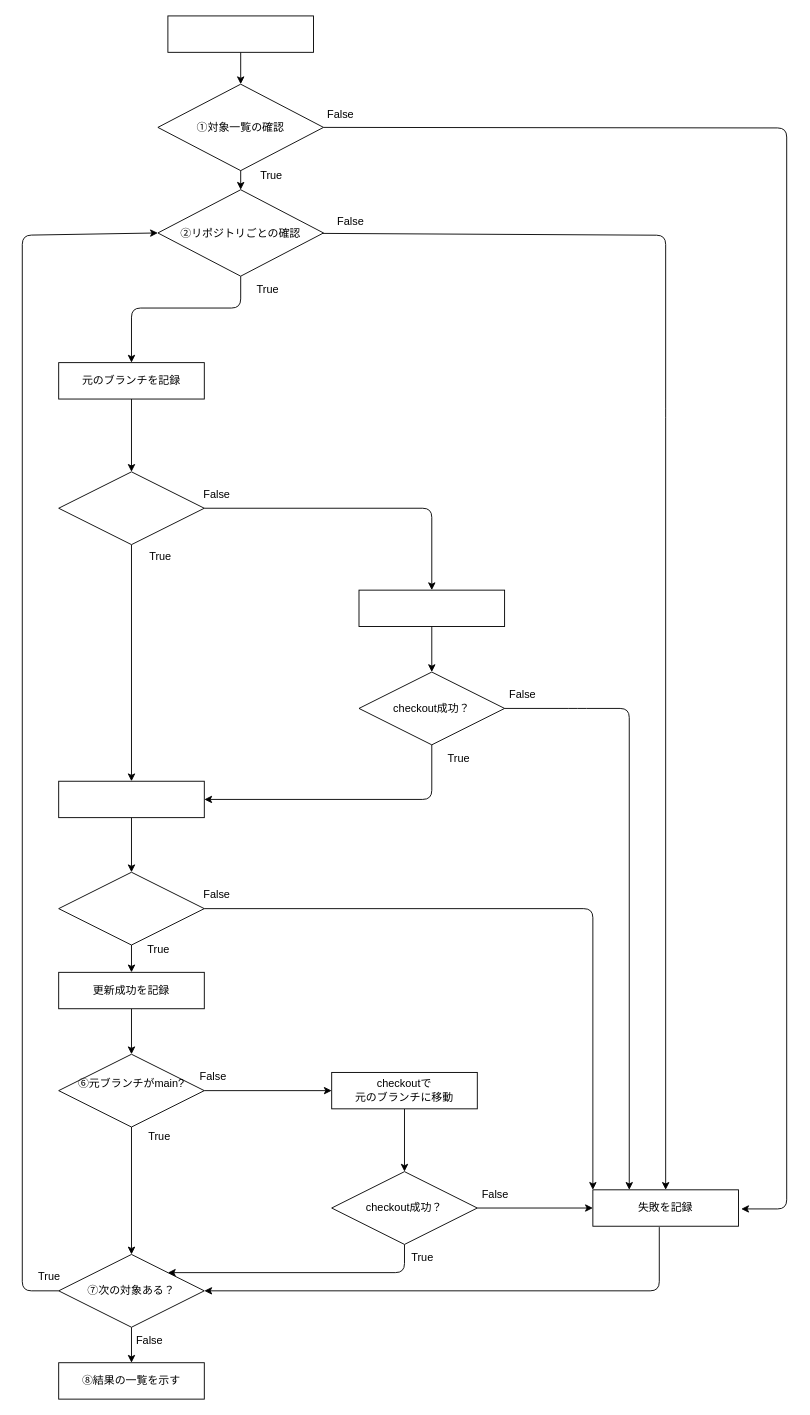
This 810x1415 diagram has some shape labels left out. The centre of each missing label's shape, as x and y in pixels:
mainブランチにcheckout: point (431, 608)
③元からmain?: point (131, 508)
④mainの更新: point (131, 799)
⑤pullが成功？: point (131, 908)
処理開始: point (240, 33)
